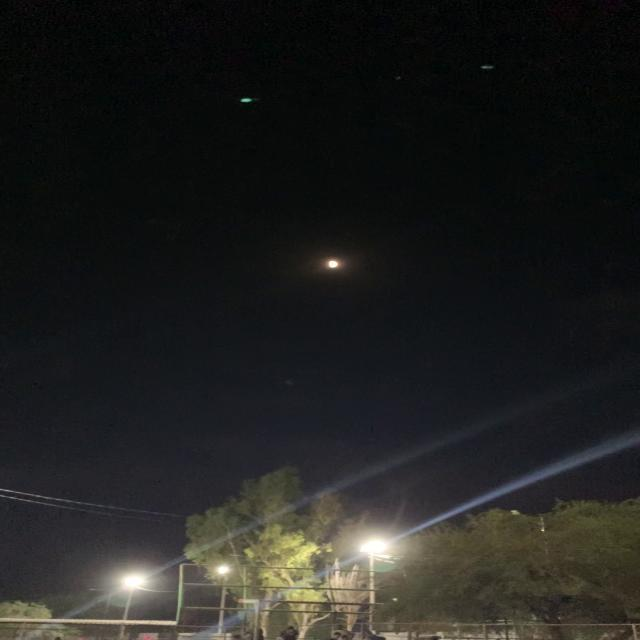moon: (319, 235, 369, 291)
